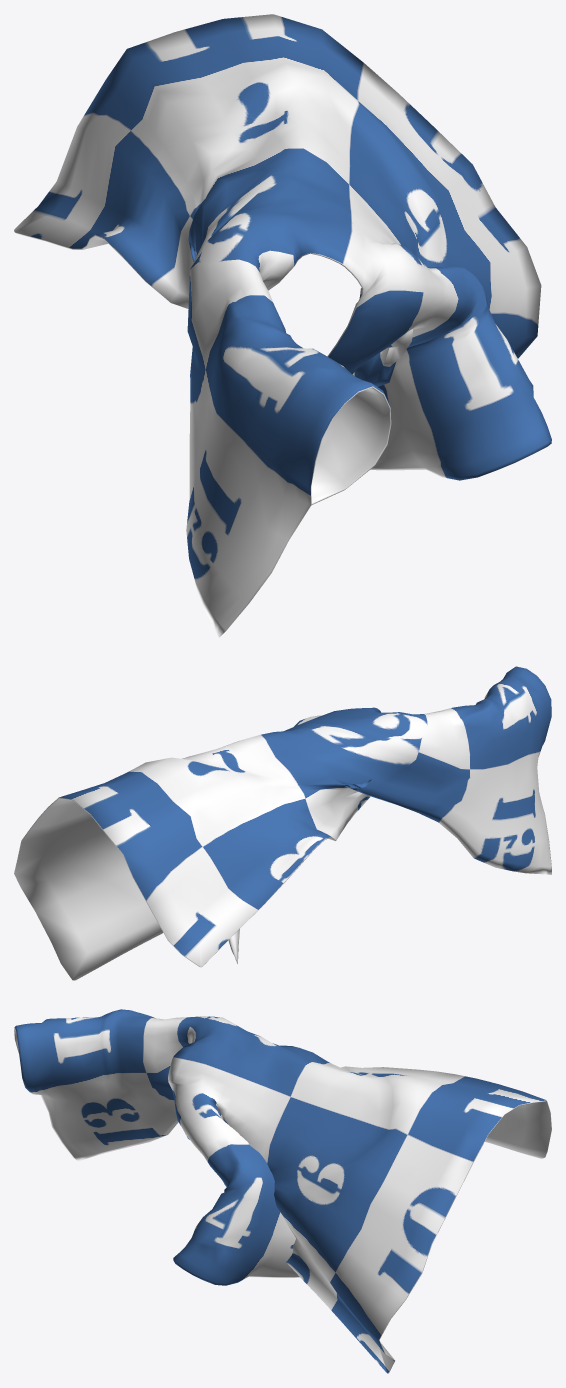
File: Shinobu_GhostCoat.fbx
3 renders of one model, top to bottom at view 1: azimuth 30°, elevation 25°; view 2: azimuth 150°, elevation 25°; view 3: azimuth 270°, elevation 25°, orthographic. The views are drawn at different scales.
Parts seen in each view (by area): view 1: SM_e_Plc_P0011_GhostCoat001; view 2: SM_e_Plc_P0011_GhostCoat001; view 3: SM_e_Plc_P0011_GhostCoat001.
Part boxes in pixels (x1,y1,x2,y2): SM_e_Plc_P0011_GhostCoat001: (14,14,551,637); SM_e_Plc_P0011_GhostCoat001: (14,666,551,980); SM_e_Plc_P0011_GhostCoat001: (14,1009,551,1373).
Size of the model in its own units: 93.05 by 61.8 by 122.
